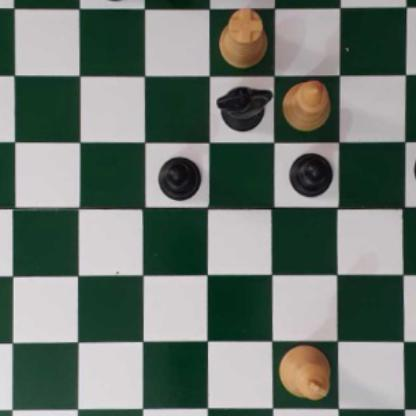black-knight: (216, 83, 272, 130)
black-pawn: (155, 153, 203, 201), (289, 148, 333, 198), (412, 142, 416, 192)
black-rook: (85, 0, 141, 1)
white-bishop: (281, 78, 333, 131)
white-king: (278, 342, 333, 400)
white-rook: (218, 5, 270, 68)
